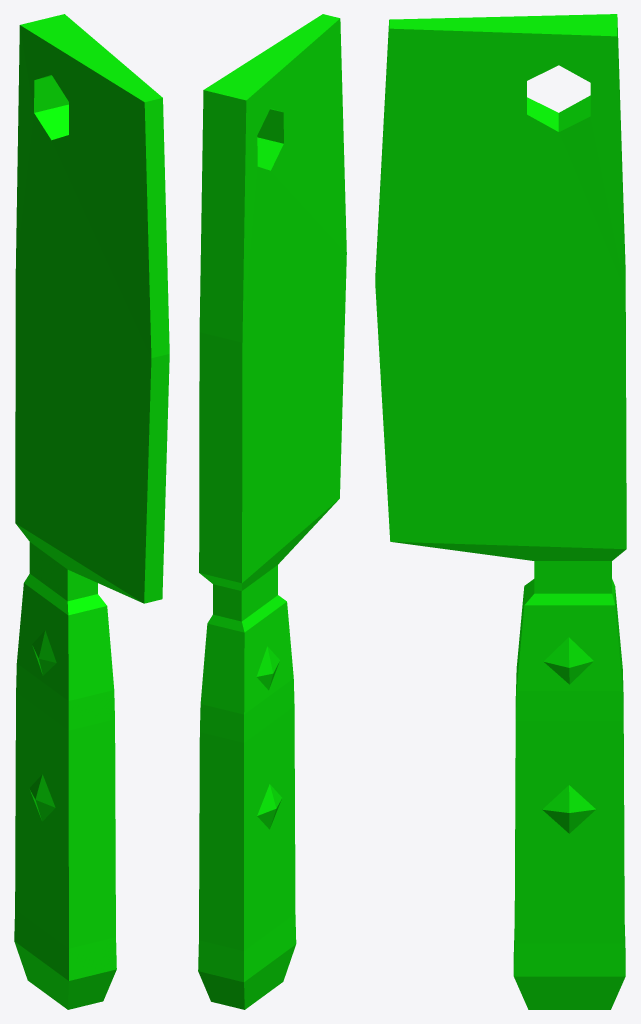
The model's file is SM_Meat_Chopper.fbx.
3 renders of one model, left to right at view 1: azimuth 30°, elevation 25°; view 2: azimuth 150°, elevation 25°; view 3: azimuth 270°, elevation 25°, orthographic. The views are drawn at different scales.
Parts seen in each view (by area): view 1: meat-chopper; view 2: meat-chopper; view 3: meat-chopper.
Part boxes in pixels (<box>): meat-chopper: <box>14,14,169,1009</box>; meat-chopper: <box>198,14,346,1009</box>; meat-chopper: <box>375,14,626,1009</box>.
Size of the model in its own units: 0.0249 by 0.3749 by 0.0874.
